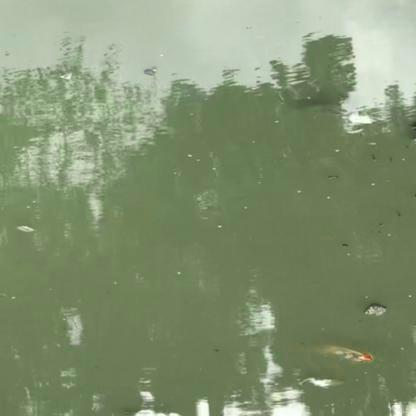Trash: (308, 334, 376, 370), (362, 302, 388, 324)
